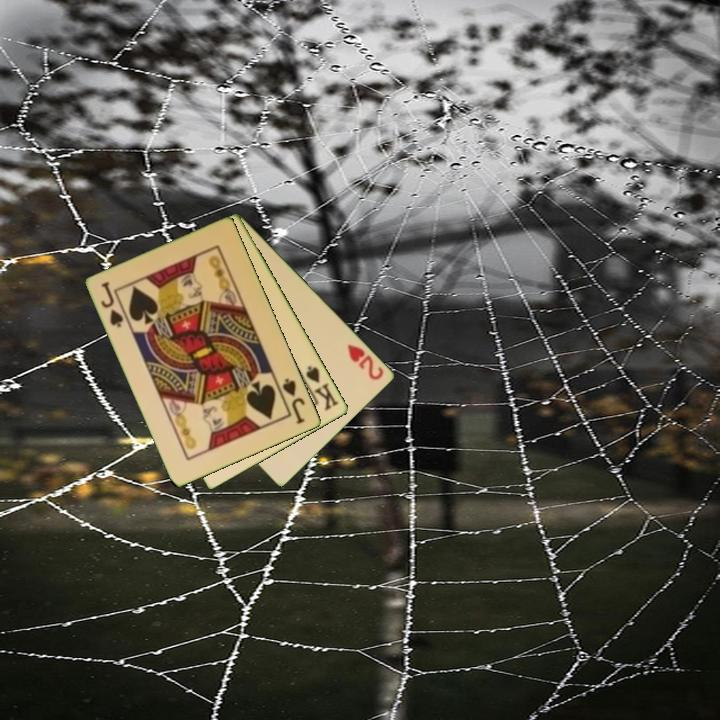2h: (344, 341, 387, 383)
Js: (98, 278, 127, 331), (279, 375, 308, 427)
Ks: (298, 362, 342, 414)
